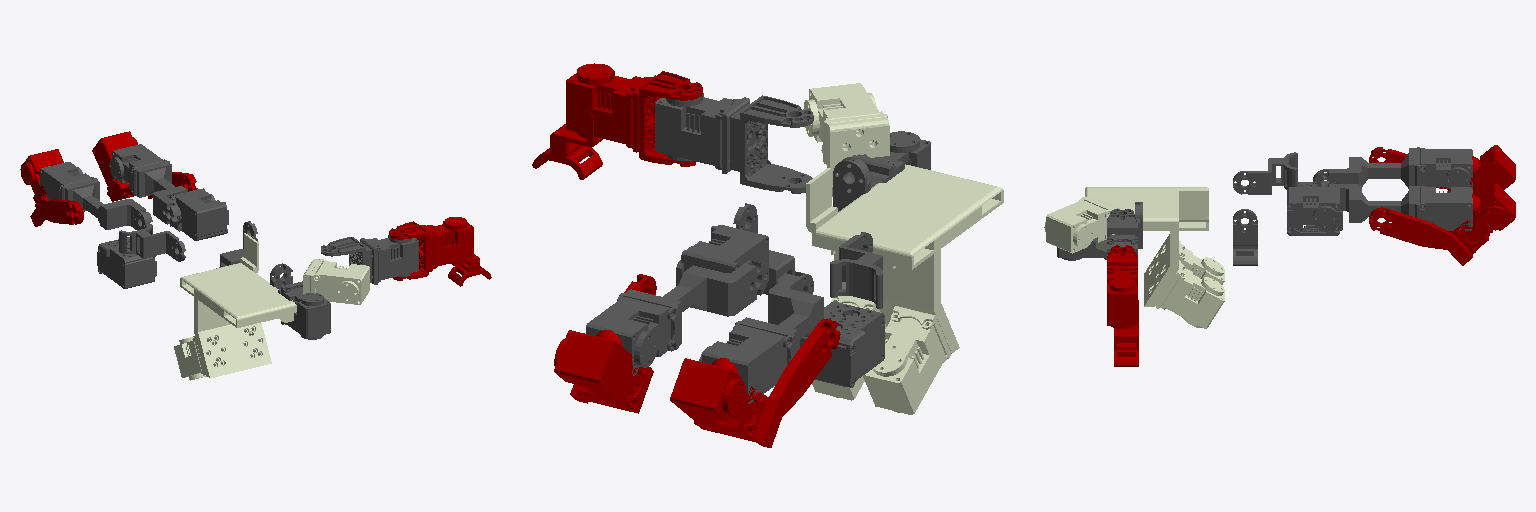
robot.urdf — gx11:
<?xml version="1.0" encoding="utf-8"?>
<!-- This URDF was automatically created by SolidWorks to URDF Exporter! Originally created by [author] ([email redacted]) 
     Commit Version: 1.6.0-4-g7f85cfe  Build Version: 1.6.7995.38578
     For more information, please see http://wiki.ros.org/sw_urdf_exporter -->
<robot
  name="gx11">
  <link
    name="base_link">
    <inertial>
      <origin
        xyz="0.000312033105377504 0.0559188374133813 -0.000555350477604549"
        rpy="0 0 0" />
      <mass
        value="0.160797512292559" />
      <inertia
        ixx="0.000100702955176406"
        ixy="-1.15922066014657E-05"
        ixz="1.12484051538739E-06"
        iyy="0.000107853474383833"
        iyz="-2.8581846249075E-06"
        izz="0.000188218606855103" />
    </inertial>
    <visual>
      <origin
        xyz="0 0 0"
        rpy="0 0 0" />
      <geometry>
        <mesh
          filename="../meshes/base_link.STL" />
      </geometry>
      <material name="gray">
        <color rgba="0.885 0.915 0.8 1"/>
      </material>
    </visual>
    <collision>
      <origin
        xyz="0 0 0"
        rpy="0 0 0" />
      <geometry>
        <mesh
          filename="../meshes/base_link.STL" />
      </geometry>
    </collision>
  </link>
  <link
    name="Link1">
    <inertial>
      <origin
        xyz="0.0255941711782224 0.000241258010955838 0.010493897443027"
        rpy="0 0 0" />
      <mass
        value="0.0204594242505954" />
      <inertia
        ixx="1.64761094304357E-06"
        ixy="1.1727883663051E-08"
        ixz="-7.63721252771507E-09"
        iyy="3.14103768519526E-06"
        iyz="-8.32099308750898E-23"
        izz="3.81122646460053E-06" />
    </inertial>
    <visual>
      <origin
        xyz="0 0 0"
        rpy="0 0 0" />
      <geometry>
        <mesh
          filename="../meshes/Link1.STL" />
      </geometry>
      <material name="gray">
        <color rgba="0.4 0.4 0.4 1"/>
      </material>
    </visual>
    <collision>
      <origin
        xyz="0 0 0"
        rpy="0 0 0" />
      <geometry>
        <mesh
          filename="../meshes/Link1.STL" />
      </geometry>
    </collision>
  </link>
  <joint
    name="joint1"
    type="revolute">
    <origin
      xyz="0.0309007440278484 0.0305 0.0058732274974783"
      rpy="1.5707963267949 0 0" />
    <parent
      link="base_link" />
    <child
      link="Link1" />
    <axis
      xyz="0 0 1" />
    <limit
      lower="0"
      upper="2.1"
      effort="10"
      velocity="6.2" />
  </joint>
  <link
    name="Link2">
    <inertial>
      <origin
        xyz="0.0407682617952134 4.4127895781898E-14 0.000223487714582398"
        rpy="0 0 0" />
      <mass
        value="0.0220862252142514" />
      <inertia
        ixx="2.25047371705653E-06"
        ixy="3.28488887357354E-18"
        ixz="1.17278836282494E-08"
        iyy="3.34626288327582E-06"
        iyz="9.07874054918504E-18"
        izz="2.44821512682901E-06" />
    </inertial>
    <visual>
      <origin
        xyz="0 0 0"
        rpy="0 0 0" />
      <geometry>
        <mesh
          filename="../meshes/Link2.STL" />
      </geometry>
      <material name="gray">
        <color rgba="0.4 0.4 0.4 1"/>
      </material>
    </visual>
    <collision>
      <origin
        xyz="0 0 0"
        rpy="0 0 0" />
      <geometry>
        <mesh
          filename="../meshes/Link2.STL" />
      </geometry>
    </collision>
  </link>
  <joint
    name="joint2"
    type="revolute">
    <origin
      xyz="0.0344999999999999 0 0.013"
      rpy="-1.5707963267949 0 0" />
    <parent
      link="Link1" />
    <child
      link="Link2" />
    <axis
      xyz="0 0 1" />
    <limit
      lower="-0.25"
      upper="1.7"
      effort="10"
      velocity="6.2" />
  </joint>
  <link
    name="Link3">
    <inertial>
      <origin
        xyz="0.00407809774758189 -6.65938561447699E-08 -1.04083408558608E-17"
        rpy="0 0 0" />
      <mass
        value="0.00125017090070063" />
      <inertia
        ixx="2.40014433117899E-08"
        ixy="7.97359704179151E-13"
        ixz="1.75775880167518E-24"
        iyy="4.71463082785401E-08"
        iyz="1.31561299280712E-23"
        izz="7.01339739927326E-08" />
    </inertial>
    <visual>
      <origin
        xyz="0 0 0"
        rpy="0 0 0" />
      <geometry>
        <mesh
          filename="../meshes/Link3.STL" />
      </geometry>
      <material name="red">
        <color rgba="0.7 0.0 0.0 1"/>
      </material>
    </visual>
    <collision>
      <origin
        xyz="0 0 0"
        rpy="0 0 0" />
      <geometry>
        <mesh
          filename="../meshes/Link3.STL" />
      </geometry>
    </collision>
  </link>
  <joint
    name="joint3"
    type="revolute">
    <origin
      xyz="0.0555000000000001 0 0"
      rpy="0 0 0" />
    <parent
      link="Link2" />
    <child
      link="Link3" />
    <axis
      xyz="0 0 1" />
    <limit
      lower="-0.25"
      upper="1.7"
      effort="10"
      velocity="6.2" />
  </joint>
  <link
    name="Link12">
    <inertial>
      <origin
        xyz="8.1335402813288E-05 -0.00166486750766669 -0.025558003708793"
        rpy="0 0 0" />
      <mass
        value="0.0164248371643224" />
      <inertia
        ixx="2.3508821939384E-06"
        ixy="-3.86158209085121E-11"
        ixz="1.52775496068753E-10"
        iyy="3.00563965204244E-06"
        iyz="3.51792921801991E-08"
        izz="1.31382958537141E-06" />
    </inertial>
    <visual>
      <origin
        xyz="0 0 0"
        rpy="0 0 0" />
      <geometry>
        <mesh
          filename="../meshes/Link12.STL" />
      </geometry>
      <material name="red">
        <color rgba="0.7 0.0 0.0 1"/>
      </material>
    </visual>
    <collision>
      <origin
        xyz="0 0 0"
        rpy="0 0 0" />
      <geometry>
        <mesh
          filename="../meshes/Link12.STL" />
      </geometry>
    </collision>
  </link>
  <joint
    name="joint12"
    type="fixed">
    <origin
      xyz="0.0570187350990352 0.00231569753250521 8.14092925386471E-05"
      rpy="0 1.5707963267949 0" />
    <parent
      link="Link3" />
    <child
      link="Link12" />
    <axis
      xyz="0 0 0" />
    <limit
      lower="-1"
      upper="1"
      effort="0"
      velocity="0" />
  </joint>
  <link
    name="Link4">
    <inertial>
      <origin
        xyz="0.0343877567350999 -0.0218255061736905 -1.16909953939981E-13"
        rpy="0 0 0" />
      <mass
        value="0.0259800201624105" />
      <inertia
        ixx="3.93599324991523E-06"
        ixy="5.40235204916075E-08"
        ixz="-2.94315829951474E-17"
        iyy="3.03368719937263E-06"
        iyz="4.15585120901418E-18"
        izz="4.29362563855095E-06" />
    </inertial>
    <visual>
      <origin
        xyz="0 0 0"
        rpy="0 0 0" />
      <geometry>
        <mesh
          filename="../meshes/Link4.STL" />
      </geometry>
      <material name="gray">
        <color rgba="0.4 0.4 0.4 1"/>
      </material>
    </visual>
    <collision>
      <origin
        xyz="0 0 0"
        rpy="0 0 0" />
      <geometry>
        <mesh
          filename="../meshes/Link4.STL" />
      </geometry>
    </collision>
  </link>
  <joint
    name="joint4"
    type="revolute">
    <origin
      xyz="0.029 0.096 0.00806475912646926"
      rpy="1.5707963267949 0 1.5707963267949" />
    <parent
      link="base_link" />
    <child
      link="Link4" />
    <axis
      xyz="0 0 1" />
    <limit
      lower="-0.3"
      upper="1.6"
      effort="10"
      velocity="6.2" />
  </joint>
  <link
    name="Link5">
    <inertial>
      <origin
        xyz="-0.00693594209096299 -0.000279377685939716 0.0118671806604443"
        rpy="0 0 0" />
      <mass
        value="0.0176678393043425" />
      <inertia
        ixx="1.47006653226869E-06"
        ixy="-1.17278787211214E-08"
        ixz="-4.36210007715237E-15"
        iyy="2.21216244461737E-06"
        iyz="1.53129454691632E-16"
        izz="2.71458475513644E-06" />
    </inertial>
    <visual>
      <origin
        xyz="0 0 0"
        rpy="0 0 0" />
      <geometry>
        <mesh
          filename="../meshes/Link5.STL" />
      </geometry>
      <material name="gray">
        <color rgba="0.4 0.4 0.4 1"/>
      </material>
    </visual>
    <collision>
      <origin
        xyz="0 0 0"
        rpy="0 0 0" />
      <geometry>
        <mesh
          filename="../meshes/Link5.STL" />
      </geometry>
    </collision>
  </link>
  <joint
    name="joint5"
    type="revolute">
    <origin
      xyz="0.0515 -0.0119999999999991 0"
      rpy="-1.5707963267949 0 0" />
    <parent
      link="Link4" />
    <child
      link="Link5" />
    <axis
      xyz="0 0 -1" />
    <limit
      lower="-0.6"
      upper="0.6"
      effort="10"
      velocity="6.2" />
  </joint>
  <link
    name="Link6">
    <inertial>
      <origin
        xyz="0.0306969035122656 -0.00550289582691389 -0.000221655002058015"
        rpy="0 0 0" />
      <mass
        value="0.0222688407504672" />
      <inertia
        ixx="3.39223294772132E-06"
        ixy="4.36812949837023E-15"
        ixz="-1.81856366192471E-16"
        iyy="2.14774478329101E-06"
        iyz="-1.17278787182961E-08"
        izz="2.47775221177695E-06" />
    </inertial>
    <visual>
      <origin
        xyz="0 0 0"
        rpy="0 0 0" />
      <geometry>
        <mesh
          filename="../meshes/Link6.STL" />
      </geometry>
      <material name="gray">
        <color rgba="0.4 0.4 0.4 1"/>
      </material>
    </visual>
    <collision>
      <origin
        xyz="0 0 0"
        rpy="0 0 0" />
      <geometry>
        <mesh
          filename="../meshes/Link6.STL" />
      </geometry>
    </collision>
  </link>
  <joint
    name="joint6"
    type="revolute">
    <origin
      xyz="0 0 0.013"
      rpy="1.5707963267949 0 0" />
    <parent
      link="Link5" />
    <child
      link="Link6" />
    <axis
      xyz="0 0 1" />
    <limit
      lower="-0.506"
      upper="1.885"
      effort="10"
      velocity="6.2" />
  </joint>
  <link
    name="Link7">
    <inertial>
      <origin
        xyz="0.00407809774758192 6.65938562245671E-08 -1.11022302462516E-16"
        rpy="0 0 0" />
      <mass
        value="0.00125017090070063" />
      <inertia
        ixx="2.40014433117899E-08"
        ixy="-7.9735970419414E-13"
        ixz="-5.51842243189203E-23"
        iyy="4.71463082785403E-08"
        iyz="-2.5435416626375E-23"
        izz="7.01339739927328E-08" />
    </inertial>
    <visual>
      <origin
        xyz="0 0 0"
        rpy="0 0 0" />
      <geometry>
        <mesh
          filename="../meshes/Link7.STL" />
      </geometry>
      <material name="red">
        <color rgba="0.7 0.0 0.0 1"/>
      </material>
    </visual>
    <collision>
      <origin
        xyz="0 0 0"
        rpy="0 0 0" />
      <geometry>
        <mesh
          filename="../meshes/Link7.STL" />
      </geometry>
    </collision>
  </link>
  <joint
    name="joint7"
    type="revolute">
    <origin
      xyz="0.036 0 0"
      rpy="3.14159265358979 0 0" />
    <parent
      link="Link6" />
    <child
      link="Link7" />
    <axis
      xyz="0 0 -1" />
    <limit
      lower="-0.366"
      upper="2.042"
      effort="10"
      velocity="6.2" />
  </joint>
  <link
    name="Link13">
    <inertial>
      <origin
        xyz="-8.13400999538118E-05 0.00166486239118922 -0.0255580037394252"
        rpy="0 0 0" />
      <mass
        value="0.016424837165235" />
      <inertia
        ixx="2.35088182791415E-06"
        ixy="-3.84307874164728E-11"
        ixz="-1.51618546307564E-10"
        iyy="3.00564049616382E-06"
        iyz="-3.51780609409142E-08"
        izz="1.31383009868489E-06" />
    </inertial>
    <visual>
      <origin
        xyz="0 0 0"
        rpy="0 0 0" />
      <geometry>
        <mesh
          filename="../meshes/Link13.STL" />
      </geometry>
      <material name="red">
        <color rgba="0.7 0.0 0.0 1"/>
      </material>
    </visual>
    <collision>
      <origin
        xyz="0 0 0"
        rpy="0 0 0" />
      <geometry>
        <mesh
          filename="../meshes/Link13.STL" />
      </geometry>
    </collision>
  </link>
  <joint
    name="joint13"
    type="fixed">
    <origin
      xyz="0.0570187350990352 -0.00231569753250514 -8.14092925387963E-05"
      rpy="0 1.5707963267949 0" />
    <parent
      link="Link7" />
    <child
      link="Link13" />
    <axis
      xyz="0 0 0" />
  </joint>
  <link
    name="Link8">
    <inertial>
      <origin
        xyz="0.034387756735096 -0.0218255061736946 -1.17045262371107E-13"
        rpy="0 0 0" />
      <mass
        value="0.0259800201624256" />
      <inertia
        ixx="3.93599324991521E-06"
        ixy="5.40235204916678E-08"
        ixz="-2.94210091036974E-17"
        iyy="3.03368719937266E-06"
        iyz="4.1822595311076E-18"
        izz="4.293625638551E-06" />
    </inertial>
    <visual>
      <origin
        xyz="0 0 0"
        rpy="0 0 0" />
      <geometry>
        <mesh
          filename="../meshes/Link8.STL" />
      </geometry>
      <material name="gray">
        <color rgba="0.4 0.4 0.4 1"/>
      </material>
    </visual>
    <collision>
      <origin
        xyz="0 0 0"
        rpy="0 0 0" />
      <geometry>
        <mesh
          filename="../meshes/Link8.STL" />
      </geometry>
    </collision>
  </link>
  <joint
    name="joint8"
    type="revolute">
    <origin
      xyz="-0.0289999999999999 0.096 0.00806475912646949"
      rpy="1.5707963267949 0 1.5707963267949" />
    <parent
      link="base_link" />
    <child
      link="Link8" />
    <axis
      xyz="0 0 1" />
    <limit
      lower="-0.314"
      upper="2.23"
      effort="10"
      velocity="6.2" />
  </joint>
  <link
    name="Link9">
    <inertial>
      <origin
        xyz="-0.00693594212200646 -0.000279377679085181 0.011867180660409"
        rpy="0 0 0" />
      <mass
        value="0.0176678393044255" />
      <inertia
        ixx="1.47006653227021E-06"
        ixy="-1.17278787191726E-08"
        ixz="4.3636658277301E-15"
        iyy="2.21216244462187E-06"
        iyz="-1.53881432448031E-16"
        izz="2.71458475514133E-06" />
    </inertial>
    <visual>
      <origin
        xyz="0 0 0"
        rpy="0 0 0" />
      <geometry>
        <mesh
          filename="../meshes/Link9.STL" />
      </geometry>
      <material name="gray">
        <color rgba="0.4 0.4 0.4 1"/>
      </material>
    </visual>
    <collision>
      <origin
        xyz="0 0 0"
        rpy="0 0 0" />
      <geometry>
        <mesh
          filename="../meshes/Link9.STL" />
      </geometry>
    </collision>
  </link>
  <joint
    name="joint9"
    type="revolute">
    <origin
      xyz="0.0515 -0.0119999999999994 0"
      rpy="-1.5707963267949 0 0" />
    <parent
      link="Link8" />
    <child
      link="Link9" />
    <axis
      xyz="0 0 -1" />
    <limit
      lower="-0.6"
      upper="0.6"
      effort="10"
      velocity="6.2" />
  </joint>
  <link
    name="Link10">
    <inertial>
      <origin
        xyz="0.0306969035122455 -0.0055028958269694 -0.000221655001767671"
        rpy="0 0 0" />
      <mass
        value="0.0222688407505351" />
      <inertia
        ixx="3.39223294772279E-06"
        ixy="4.36052961522859E-15"
        ixz="-1.26836697019448E-16"
        iyy="2.14774478329251E-06"
        iyz="-1.17278787162833E-08"
        izz="2.47775221177791E-06" />
    </inertial>
    <visual>
      <origin
        xyz="0 0 0"
        rpy="0 0 0" />
      <geometry>
        <mesh
          filename="../meshes/Link10.STL" />
      </geometry>
      <material name="gray">
        <color rgba="0.4 0.4 0.4 1"/>
      </material>
    </visual>
    <collision>
      <origin
        xyz="0 0 0"
        rpy="0 0 0" />
      <geometry>
        <mesh
          filename="../meshes/Link10.STL" />
      </geometry>
    </collision>
  </link>
  <joint
    name="joint10"
    type="revolute">
    <origin
      xyz="0 0 0.013"
      rpy="1.5708 0 0" />
    <parent
      link="Link9" />
    <child
      link="Link10" />
    <axis
      xyz="0 0 1" />
    <limit
      lower="-0.506"
      upper="1.885"
      effort="10"
      velocity="6.2" />
  </joint>
  <link
    name="Link11">
    <inertial>
      <origin
        xyz="0.00407809774758178 6.65938561551782E-08 0"
        rpy="0 0 0" />
      <mass
        value="0.00125017090070063" />
      <inertia
        ixx="2.40014433117899E-08"
        ixy="-7.97359704187499E-13"
        ixz="-5.48213759628279E-23"
        iyy="4.71463082785402E-08"
        iyz="7.31847139371896E-24"
        izz="7.01339739927327E-08" />
    </inertial>
    <visual>
      <origin
        xyz="0 0 0"
        rpy="0 0 0" />
      <geometry>
        <mesh
          filename="../meshes/Link11.STL" />
      </geometry>
      <material name="red">
        <color rgba="0.7 0.0 0.0 1"/>
      </material>
    </visual>
    <collision>
      <origin
        xyz="0 0 0"
        rpy="0 0 0" />
      <geometry>
        <mesh
          filename="../meshes/Link11.STL" />
      </geometry>
    </collision>
  </link>
  <joint
    name="joint11"
    type="revolute">
    <origin
      xyz="0.0359999999999999 0 0"
      rpy="-3.14159265358979 0 0" />
    <parent
      link="Link10" />
    <child
      link="Link11" />
    <axis
      xyz="0 0 -1" />
    <limit
      lower="-0.366"
      upper="2.042"
      effort="10"
      velocity="6.2" />
  </joint>
  <link
    name="Link14">
    <inertial>
      <origin
        xyz="-8.13402247644215E-05 0.00166486231231224 -0.0255580035739592"
        rpy="0 0 0" />
      <mass
        value="0.0164248372683252" />
      <inertia
        ixx="2.3508818769117E-06"
        ixy="-3.84474455364657E-11"
        ixz="-1.51615796905866E-10"
        iyy="3.00564050957234E-06"
        iyz="-3.51780291748176E-08"
        izz="1.31383008699383E-06" />
    </inertial>
    <visual>
      <origin
        xyz="0 0 0"
        rpy="0 0 0" />
      <geometry>
        <mesh
          filename="../meshes/Link14.STL" />
      </geometry>
      <material name="red">
        <color rgba="0.7 0.0 0.0 1"/>
      </material>
    </visual>
    <collision>
      <origin
        xyz="0 0 0"
        rpy="0 0 0" />
      <geometry>
        <mesh
          filename="../meshes/Link14.STL" />
      </geometry>
    </collision>
  </link>
  <joint
    name="joint14"
    type="fixed">
    <origin
      xyz="0.057019 -0.0023157 -8.1409E-05"
      rpy="0 1.5708 0" />
    <parent
      link="Link11" />
    <child
      link="Link14" />
    <axis
      xyz="0 0 0" />
  </joint>
</robot>

--- What the picture shows (computed from the rendered views, not written in the file) ---
The picture shows the robot from 3 angles, left to right: view 1: azimuth 30°, elevation 25°; view 2: azimuth 150°, elevation 25°; view 3: azimuth 270°, elevation 25°; orthographic projection.
Model gx11 with 15 links and 14 joints (11 revolute, 3 fixed), rooted at base_link, posed every joint at zero.
Links seen in each view (by area): view 1: base_link, Link10, Link6, Link3, Link2, Link1, Link11, Link5, Link9, Link7, Link8, Link12; view 2: base_link, Link2, Link11, Link6, Link3, Link10, Link7, Link9, Link1, Link5, Link8, Link12 (+1 smaller); view 3: base_link, Link7, Link10, Link6, Link5, Link3, Link11, Link8, Link4, Link2, Link12, Link1.
Link boxes in pixels (bbox=[...]): base_link: bbox=[174, 233, 369, 380]; Link10: bbox=[40, 162, 152, 229]; Link6: bbox=[109, 144, 187, 226]; Link3: bbox=[389, 217, 473, 280]; Link2: bbox=[321, 235, 418, 284]; Link1: bbox=[270, 263, 330, 339]; Link11: bbox=[20, 149, 83, 226]; Link5: bbox=[170, 188, 228, 240]; Link9: bbox=[97, 237, 156, 288]; Link7: bbox=[92, 131, 197, 201]; Link8: bbox=[119, 224, 185, 261]; Link12: bbox=[448, 254, 491, 286]; base_link: bbox=[803, 83, 1003, 414]; Link2: bbox=[655, 93, 813, 193]; Link11: bbox=[670, 319, 839, 447]; Link6: bbox=[586, 260, 767, 375]; Link3: bbox=[566, 63, 702, 166]; Link10: bbox=[699, 271, 823, 403]; Link7: bbox=[554, 274, 656, 413]; Link9: bbox=[798, 301, 884, 387]; Link1: bbox=[833, 131, 930, 211]; Link5: bbox=[676, 225, 768, 285]; Link8: bbox=[830, 232, 882, 308]; Link12: bbox=[532, 94, 602, 179]; base_link: bbox=[1044, 187, 1224, 328]; Link7: bbox=[1369, 183, 1515, 265]; Link10: bbox=[1313, 147, 1472, 188]; Link6: bbox=[1318, 184, 1472, 230]; Link5: bbox=[1287, 186, 1342, 235]; Link3: bbox=[1107, 245, 1137, 328]; Link11: bbox=[1369, 145, 1515, 196]; Link8: bbox=[1233, 152, 1297, 194]; Link4: bbox=[1233, 209, 1257, 265]; Link2: bbox=[1107, 209, 1137, 255]; Link12: bbox=[1114, 300, 1138, 366]; Link1: bbox=[1057, 202, 1142, 260].
Size in the robot's own frame: 0.2394 by 0.3018 by 0.1032 metres.
Meshes: 15 distinct files referenced, 15 mesh visuals loaded (15 binary STL).